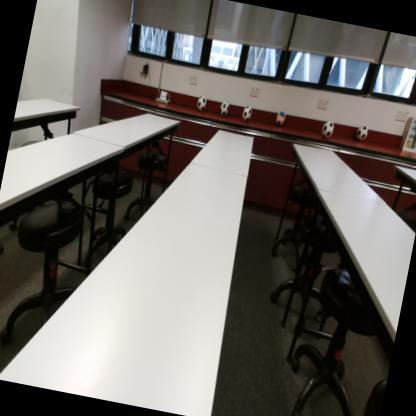ball: (320, 119, 334, 140), (353, 125, 369, 142), (194, 94, 208, 112), (274, 108, 286, 127), (219, 100, 230, 118), (240, 106, 252, 122)
